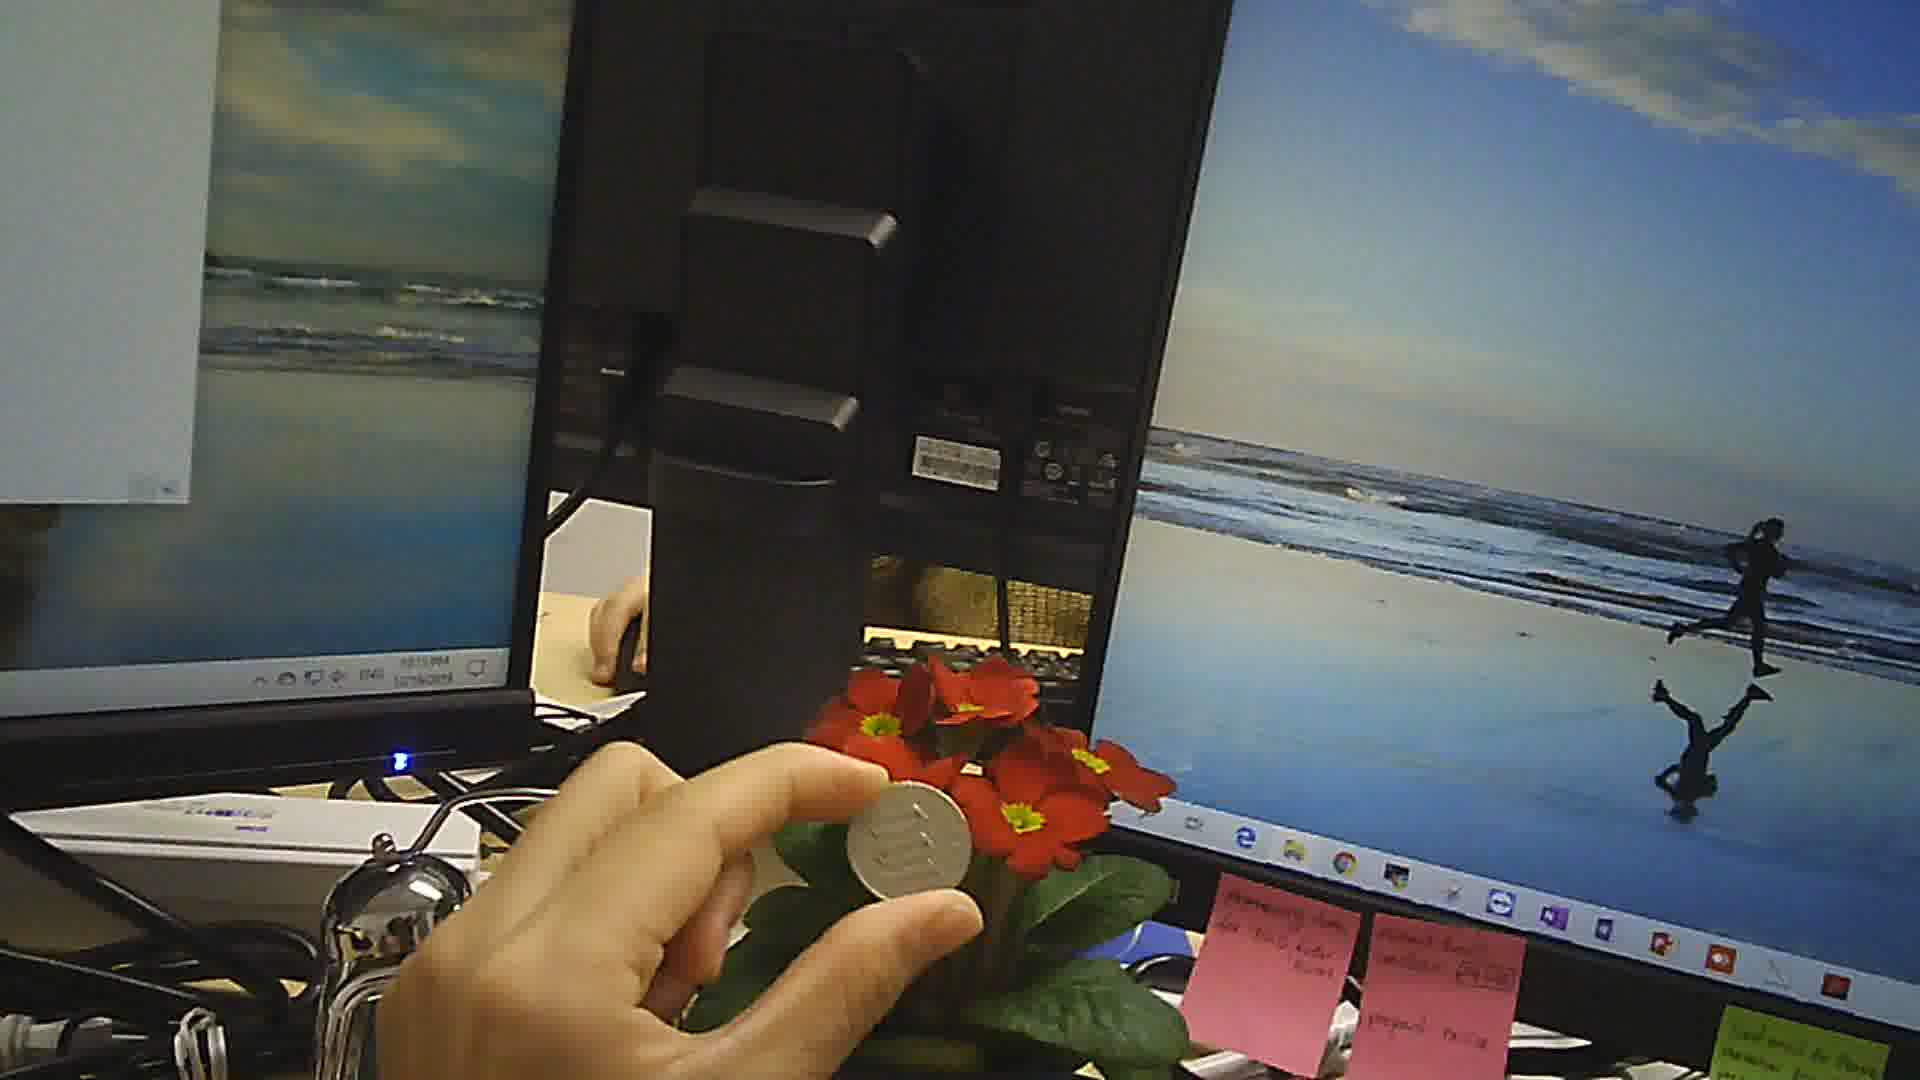100 Yen: (843, 779, 978, 906)
